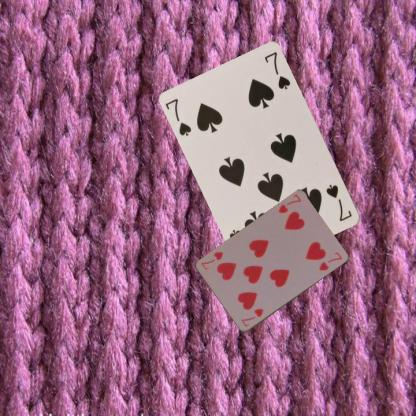7h: (276, 192, 302, 215), (238, 306, 264, 328)
7s: (324, 181, 354, 223), (163, 96, 193, 137)
